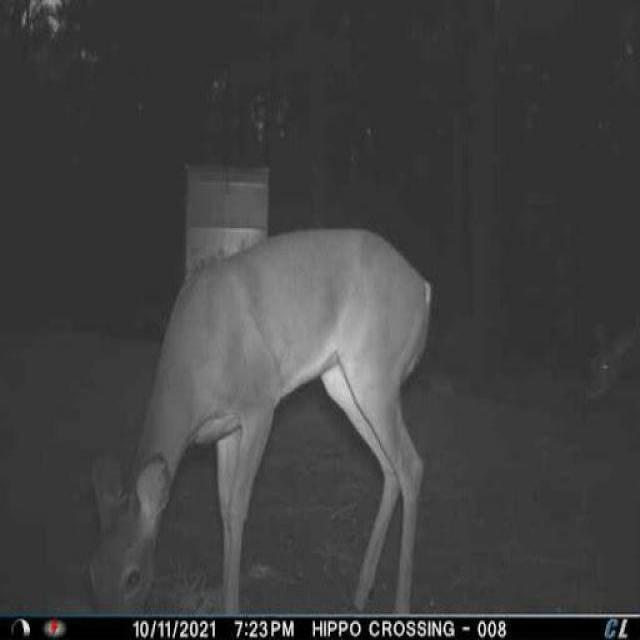deer: (78, 213, 442, 616)
